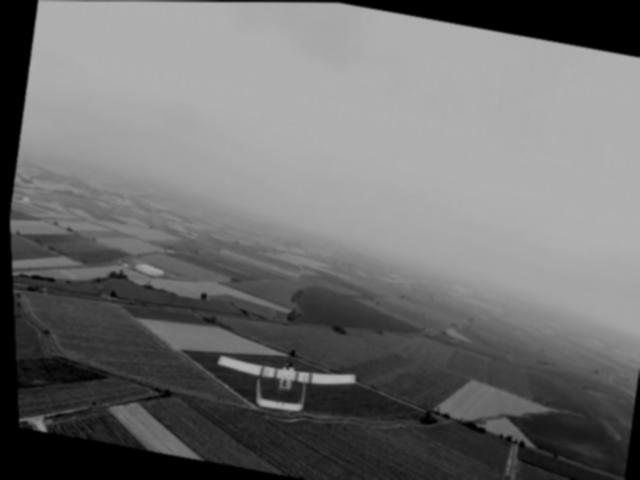hedef: (200, 334, 365, 436)
